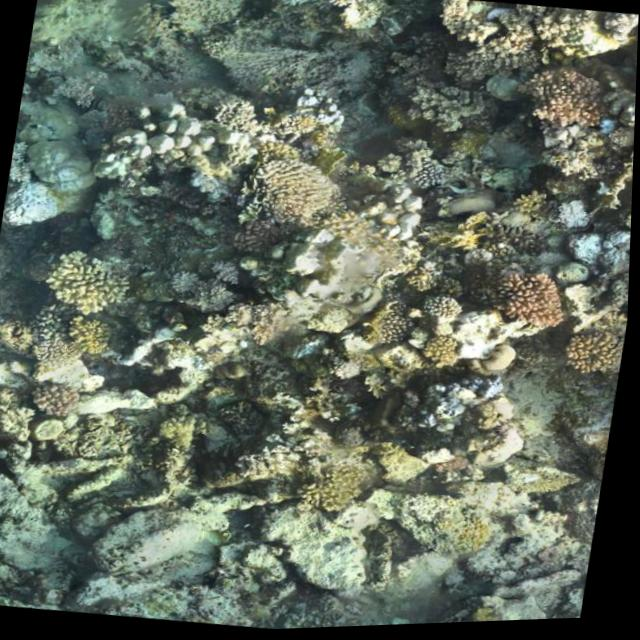Bleached Coral: (91, 86, 210, 182), (2, 150, 93, 240), (541, 192, 634, 275), (435, 297, 521, 377), (349, 175, 436, 254)
Healthy Coral: (227, 145, 353, 252), (21, 245, 144, 332), (521, 57, 620, 156), (410, 494, 502, 567), (493, 265, 580, 339), (559, 321, 629, 393), (296, 459, 364, 525), (29, 380, 89, 423), (355, 308, 415, 349)
